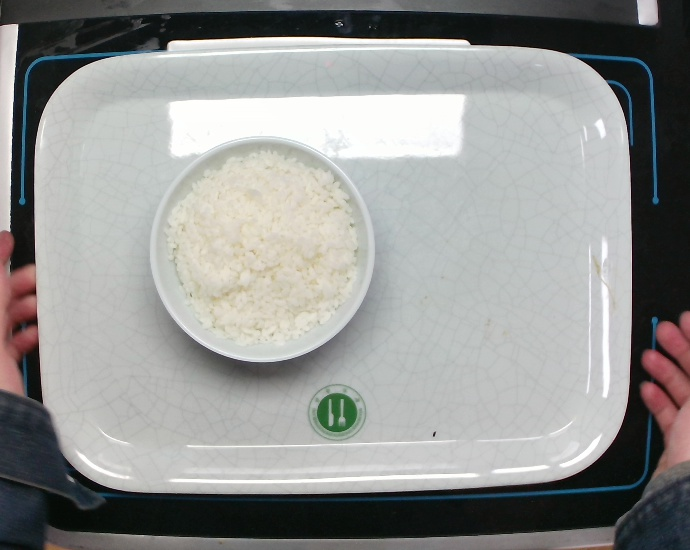JYsf-Fan_Wan: (147, 133, 377, 365)
